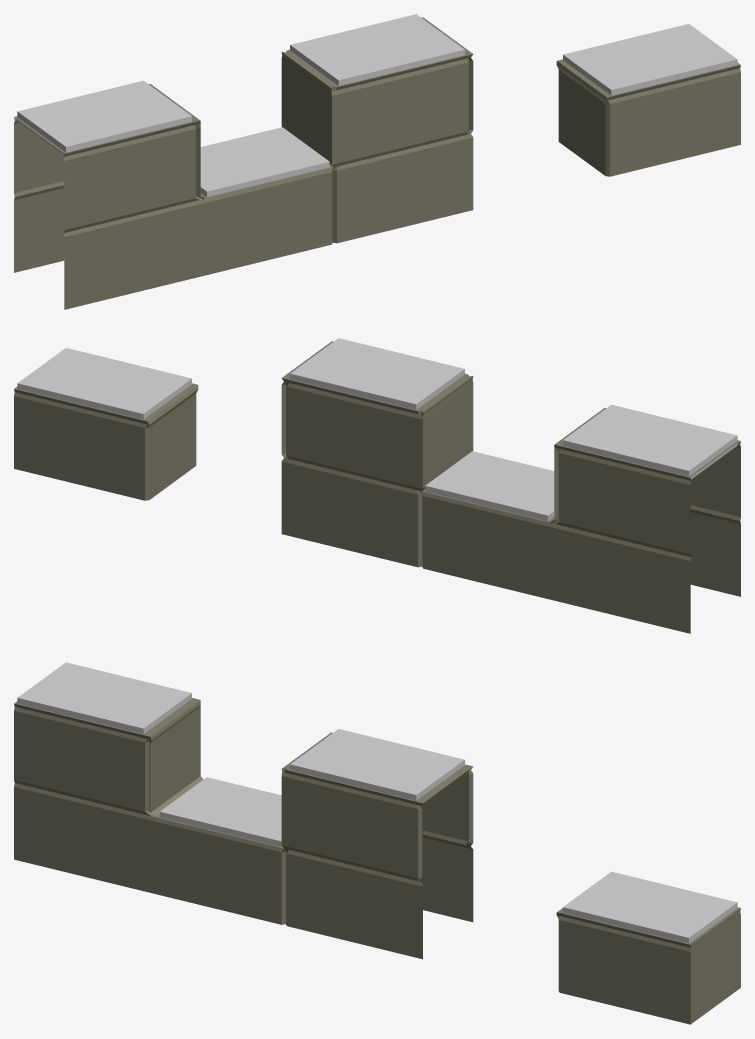
Rendered from Wall_build_snow_mat.fbx.
The picture shows the model from 3 angles, top to bottom: view 1: azimuth 30°, elevation 25°; view 2: azimuth 150°, elevation 25°; view 3: azimuth 330°, elevation 25°; orthographic projection.
Visible parts, largest first — view 1: Wall_build_snow_mat; view 2: Wall_build_snow_mat; view 3: Wall_build_snow_mat.
Boxes of the visible parts, x1=… form: Wall_build_snow_mat: x1=14, y1=14, x2=740, y2=309; Wall_build_snow_mat: x1=14, y1=338, x2=740, y2=633; Wall_build_snow_mat: x1=14, y1=662, x2=740, y2=1024.
Size of the model in its own units: 411 by 93.81 by 53.07.
